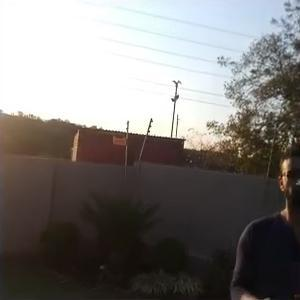follow: (226, 134, 298, 298)
